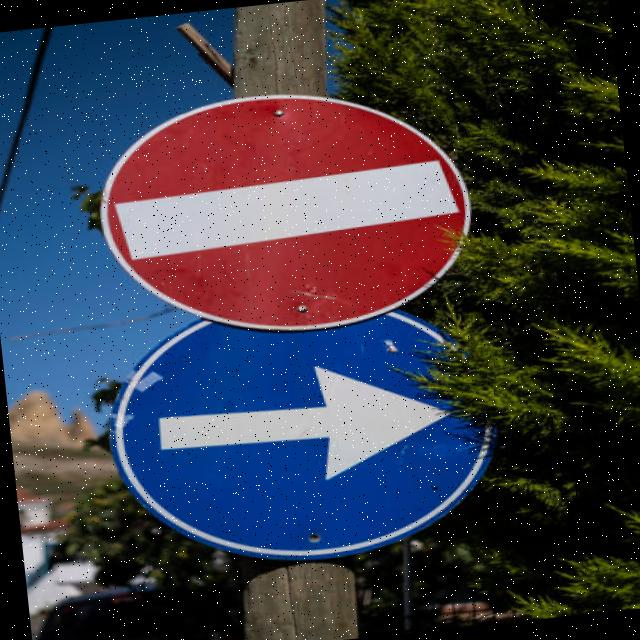compulsory_keep_right: (94, 283, 518, 582)
